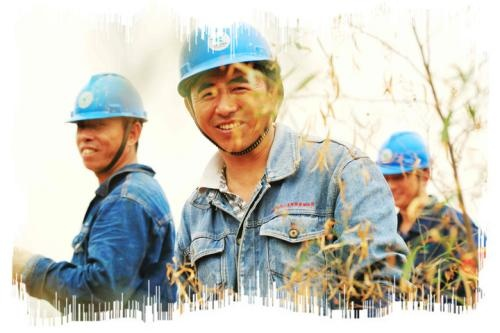blue: (177, 18, 285, 158), (66, 68, 148, 176), (373, 128, 434, 209)
